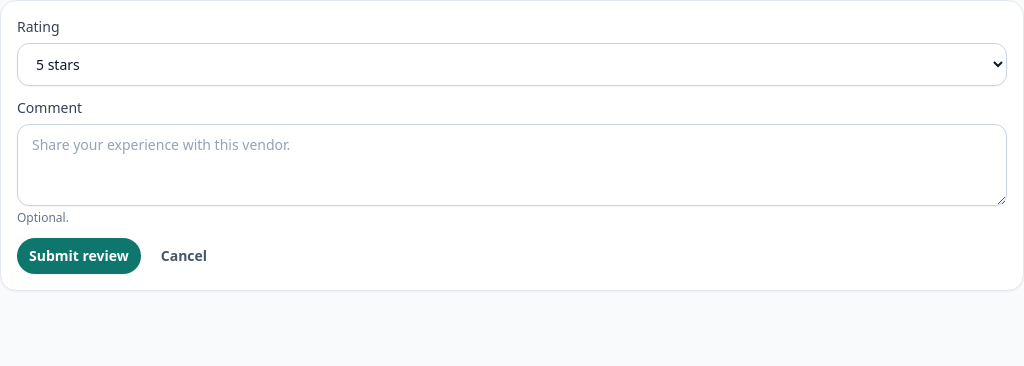
Test: ReviewForm › shows an API error without closing the form
The image size is (1024, 366).
Click the button "Submit review". click: click(79, 256)
box: [17,238,141,274]
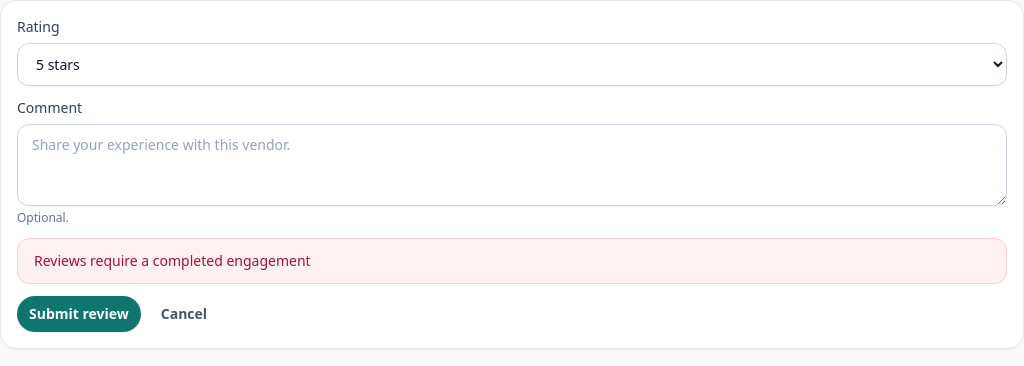
Result: the text "Reviews require a completed engagement" is shown at [17,238,1007,284]
